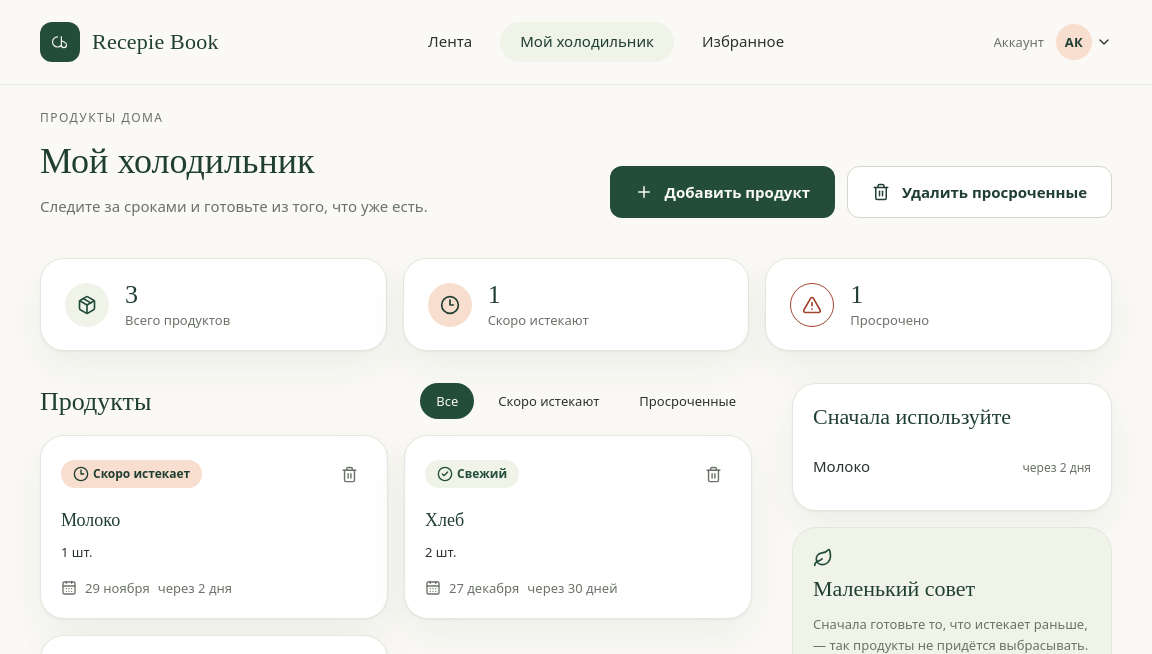
Test: fridge page › shows the API error of the add form and closes it on cancel
The image size is (1152, 654).
Expected: the heading "Молоко" is shown, [61, 510, 120, 530]
Click the button "Добавить продукт" at (722, 192), box [610, 166, 835, 218]
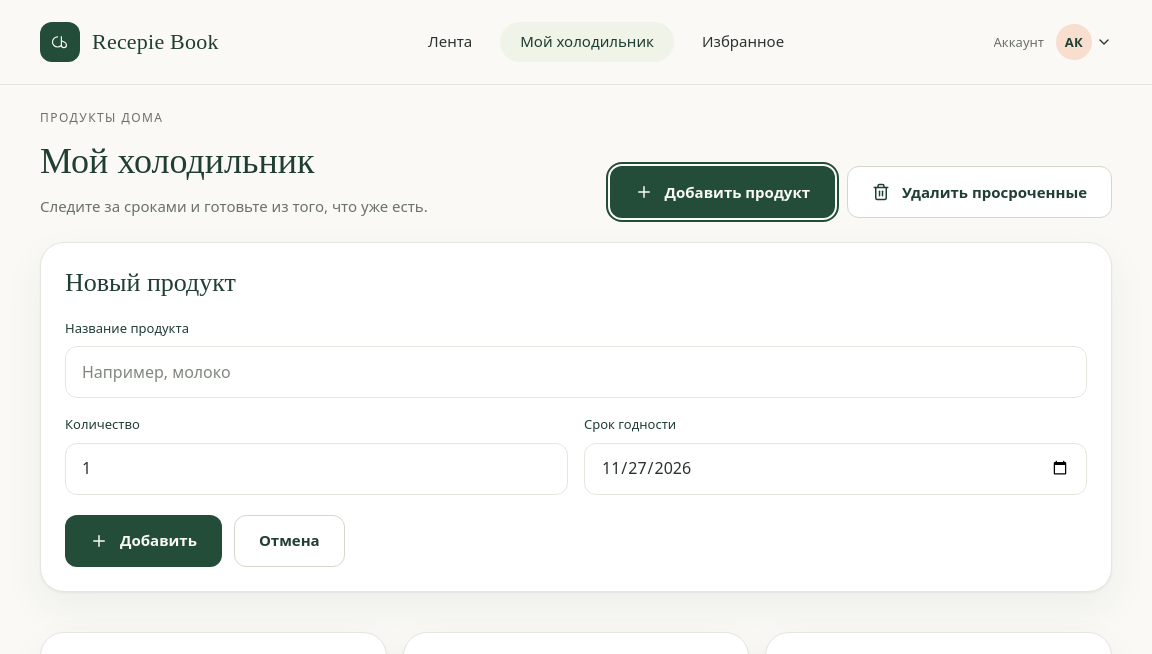
Type "Кефир" into the field labelled "Название продукта" at (576, 372), box [65, 346, 1087, 398]
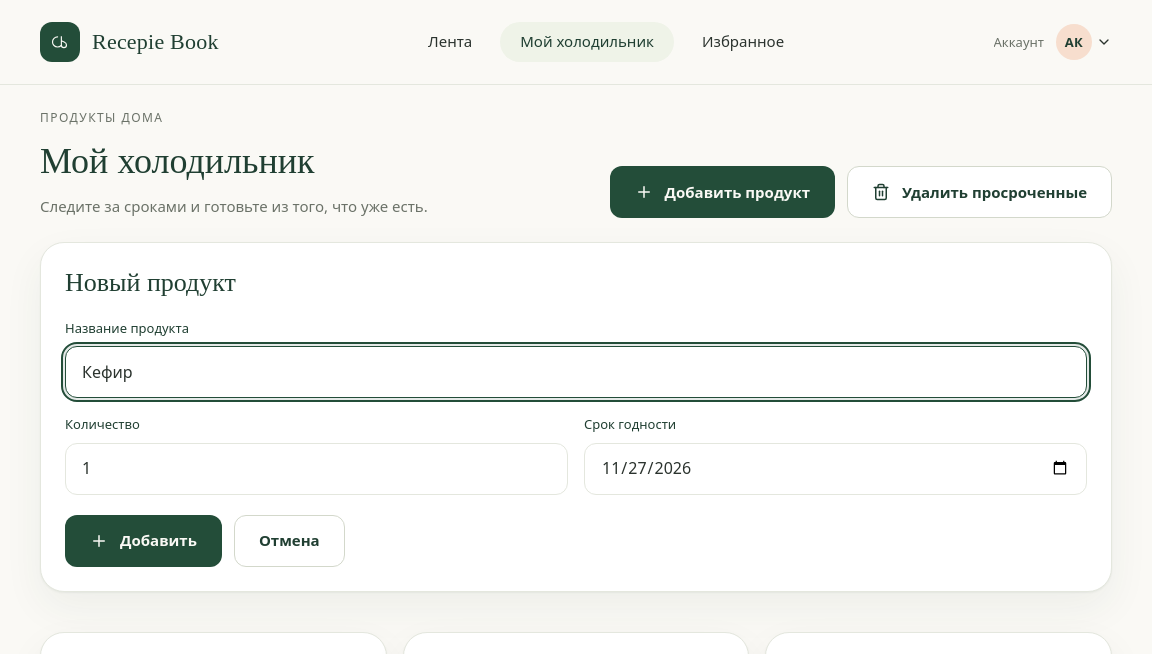
Click the button "Добавить" at (143, 540), box [65, 514, 222, 566]
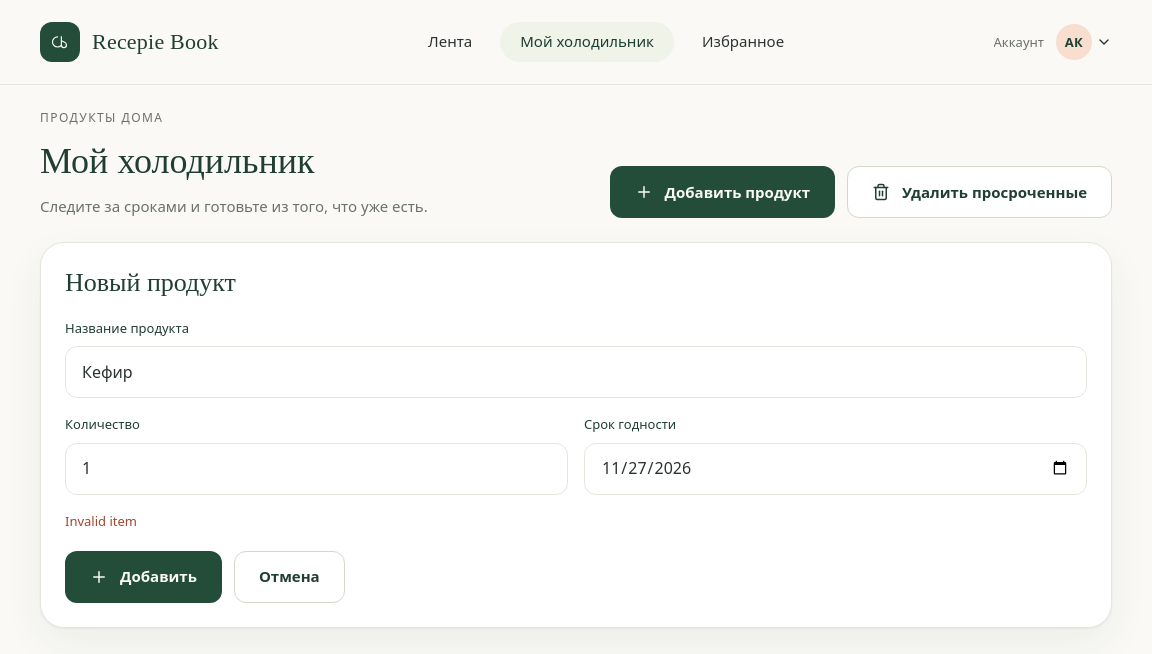
Now the message reads "Invalid item", box [65, 512, 137, 530]
Click the button "Отмена" at (289, 577), box [234, 551, 345, 603]
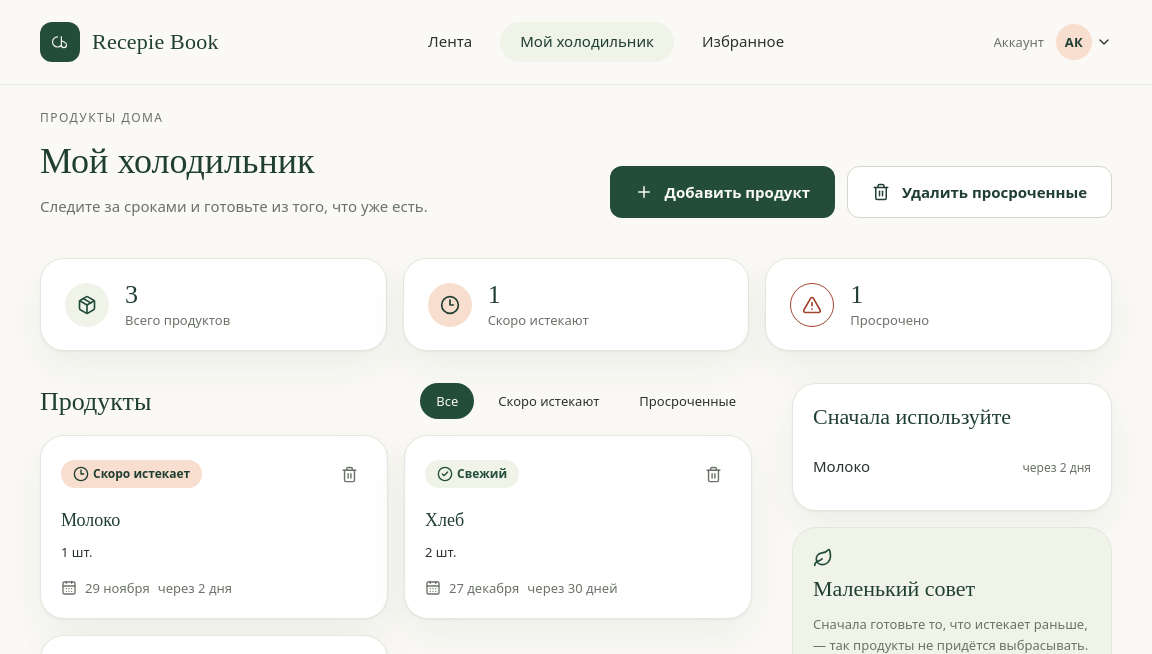
Now the label labelled "Название продукта" is gone
